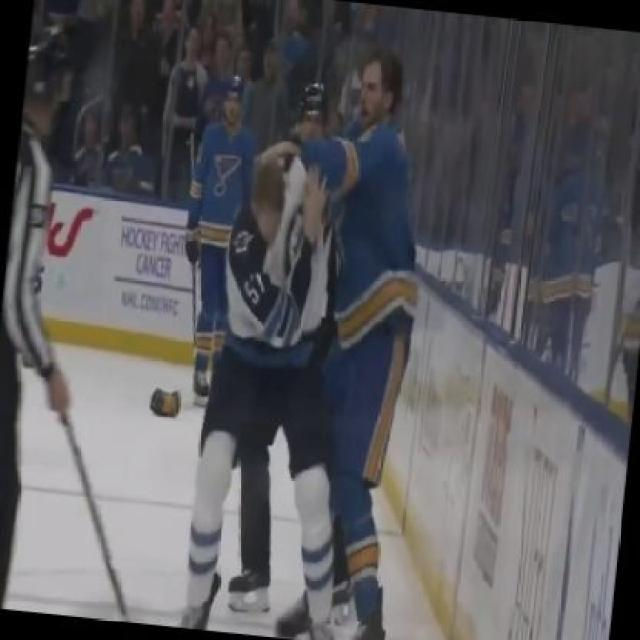fight: (144, 29, 484, 638)
non-fight: (0, 3, 134, 620)
